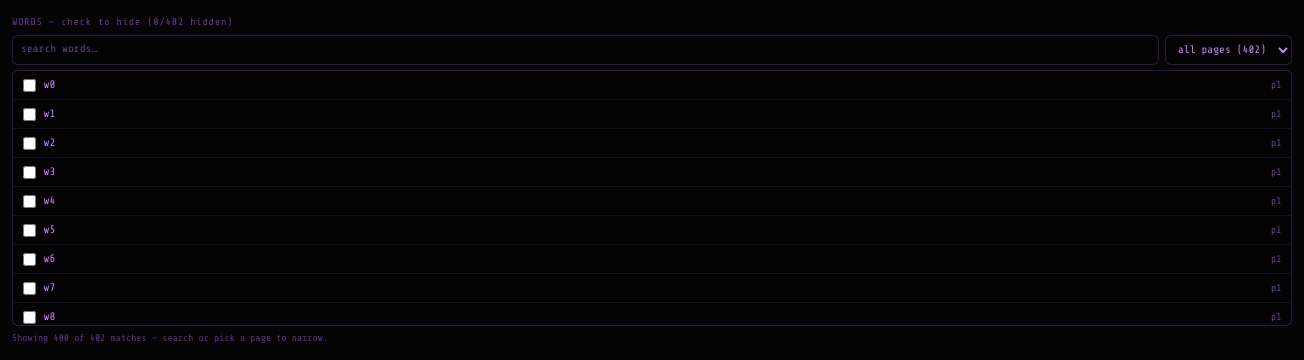
Scenario: <WordSelect> › reaches a word the row cap held back, which is why the filter exists
Expected: the text "buried" is not shown
Select "page 2 (1)" in the dropdown named "filter words by page" at [1228, 50], box [1165,35,1292,65]
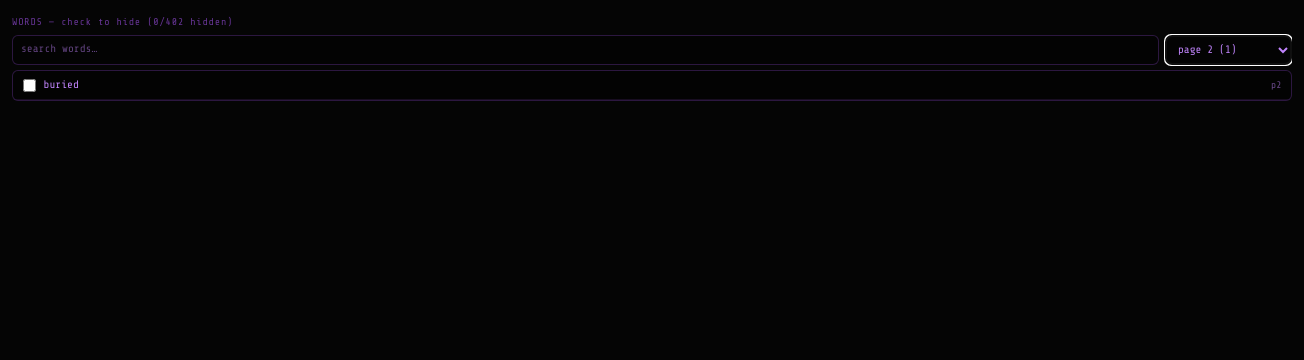
Expected: the text "buried" is shown, [44,78,79,91]
Expected: the number of checkboxes is 1, [23,79,36,92]
